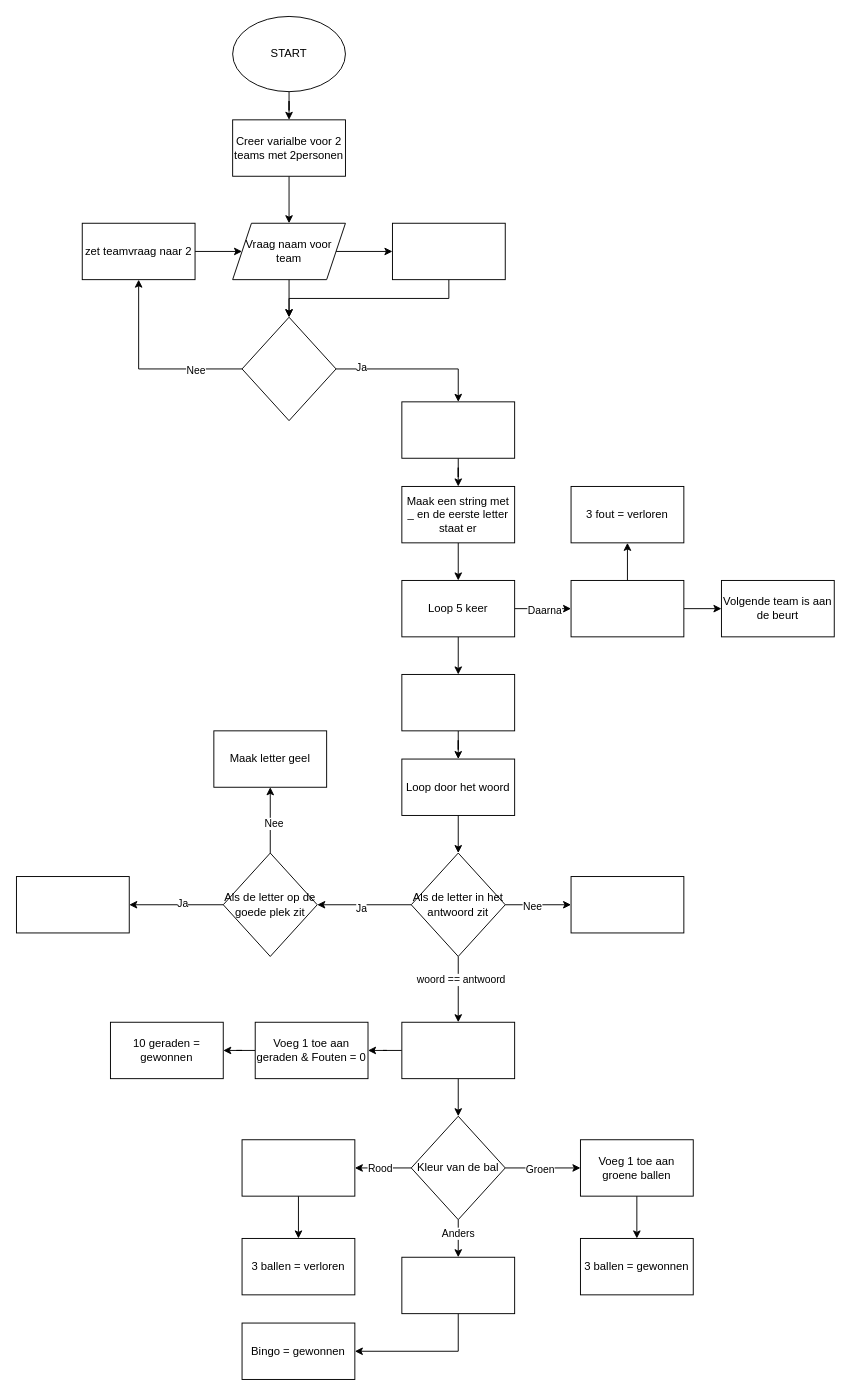
The diagram is 851 pixels wide and 1396 high, and some of its shapes have lost their labels. The shapes that lost their labels are listed below. From the top down, each one's centre as x and y in pixels, then its label:
the point at 448,251: Als naam in team zit voeg getal toe (Jacco 1)
the point at 288,368: Als team 2 mensen heeft
the point at 458,429: Maak variable met een random word van de woordenlijst
the point at 627,608: Voeg 1 toe aan fout
the point at 458,702: Vraag een woord met de lengte van antwoord
the point at 72,904: Maak letter groen en voeg de letter toe aan _ variable
the point at 627,904: Pass
the point at 458,1050: geef 2 ballen aan dat team
the point at 298,1167: Voeg 1 toe aan rood ballen
the point at 458,1285: Voeg bal toe aan bingo kaart
